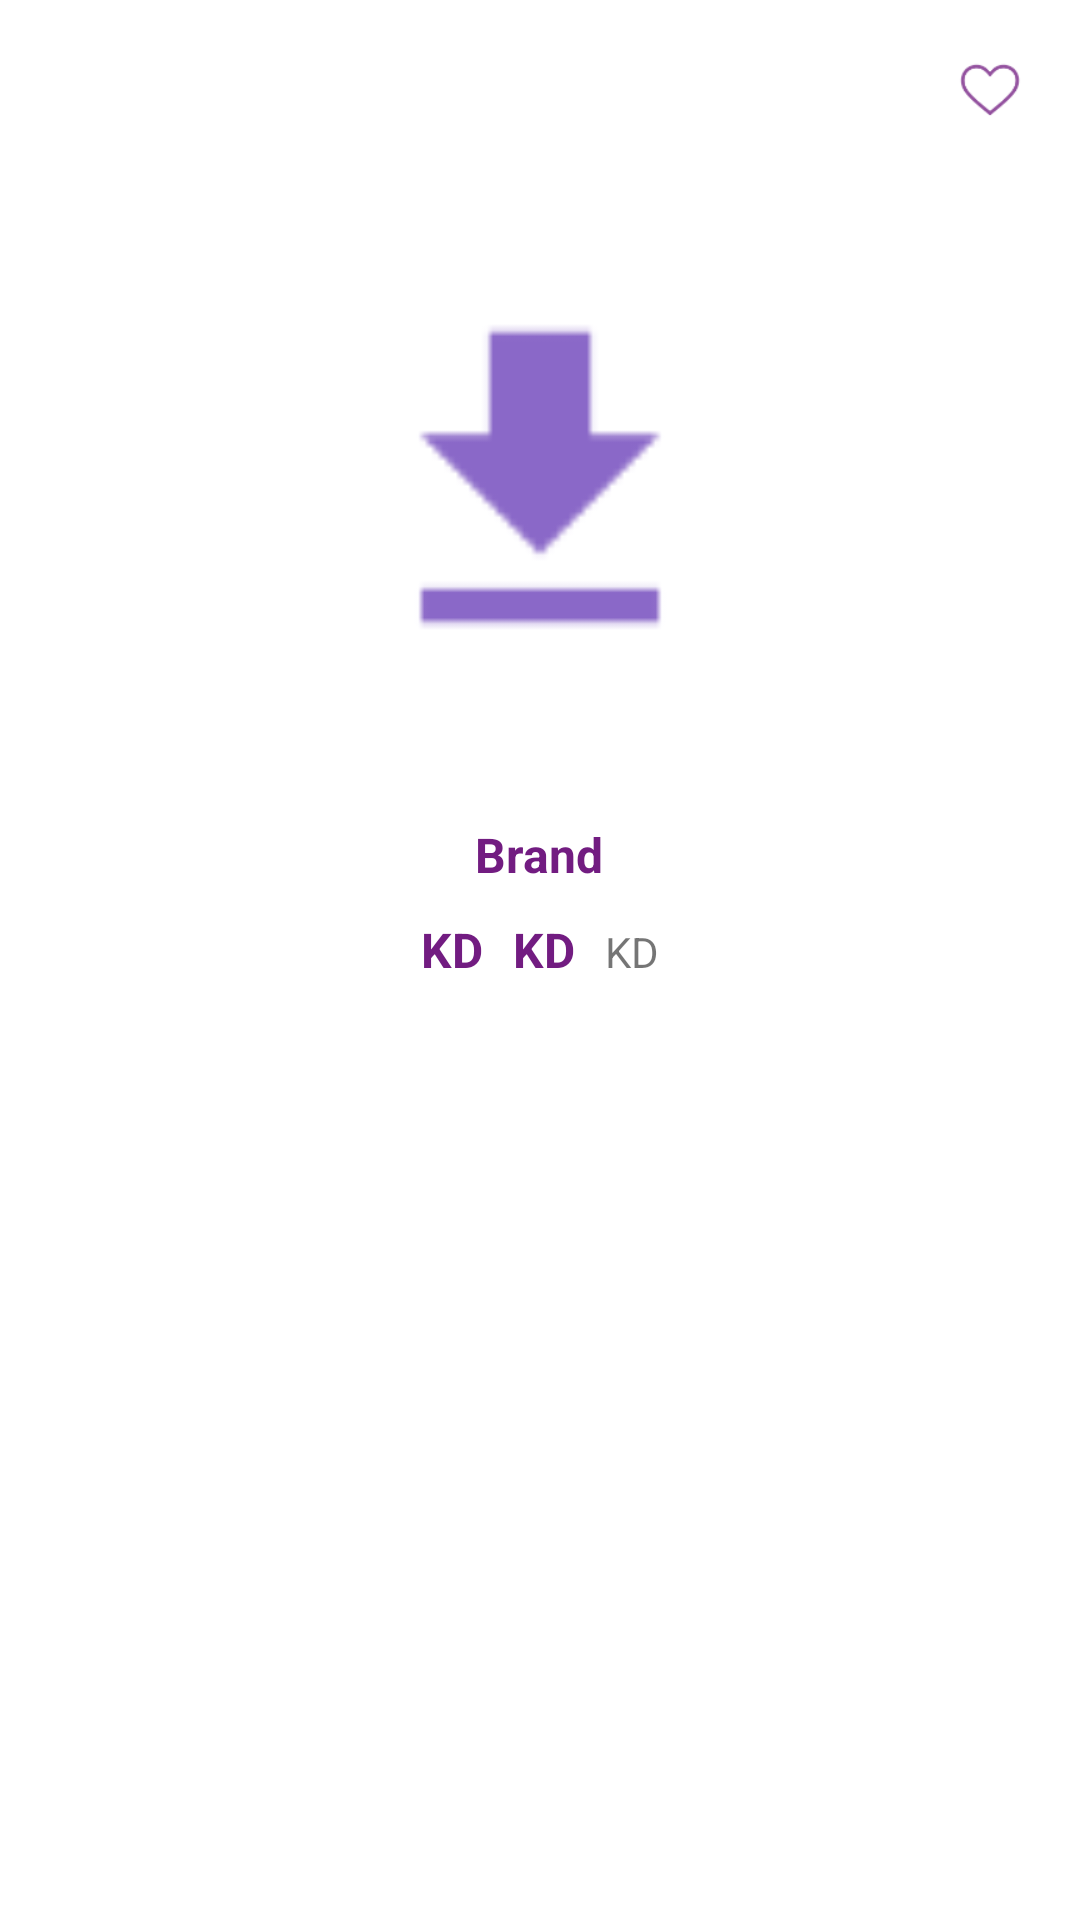

Named icons in this screenshot (1080*1920) and their bounding boxes, (x1, y1, x2, y2):
download: (419, 328, 661, 626)
heart: (960, 64, 1020, 115)
